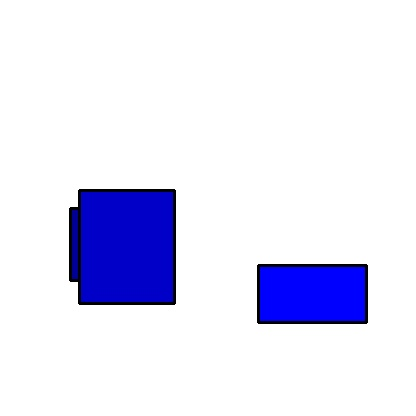rectangle: (79, 190, 174, 303), (258, 265, 366, 322), (70, 208, 134, 280)
